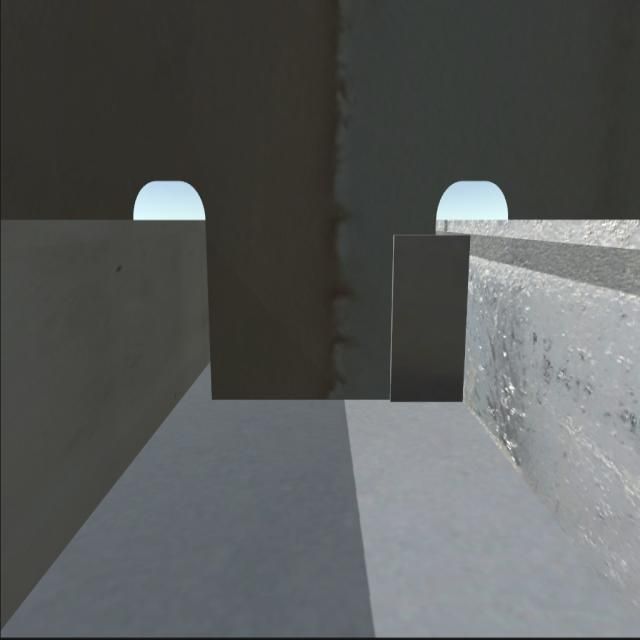fillet_yong_jeop_jang: (208, 392, 465, 409)
longi_yong_jeop_jang: (462, 232, 474, 406)
plate_CP01: (397, 237, 467, 408)
